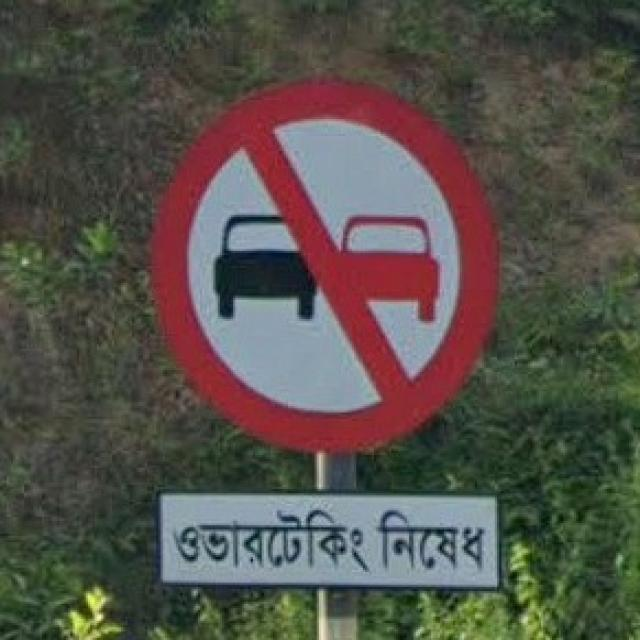Don-t-Overtracking: (148, 63, 523, 613)
